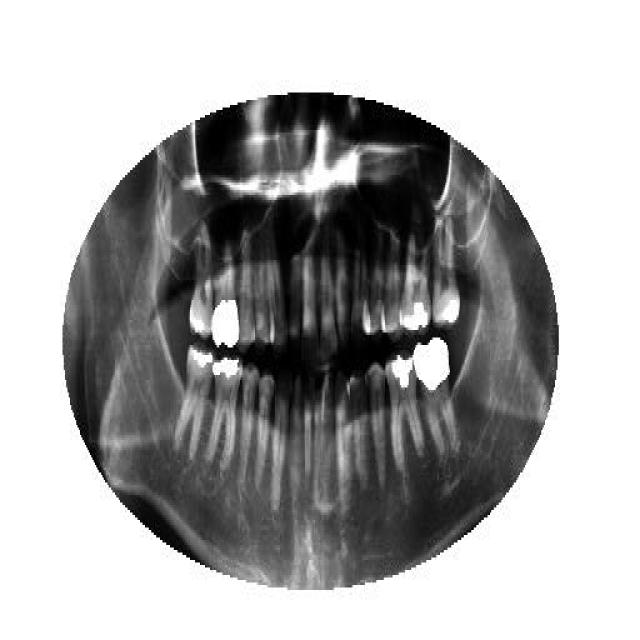Fillings: (414, 330, 454, 468), (168, 348, 216, 460), (385, 353, 425, 475), (202, 358, 242, 468), (398, 212, 434, 330), (431, 212, 460, 328), (212, 242, 240, 350), (188, 240, 212, 340)
